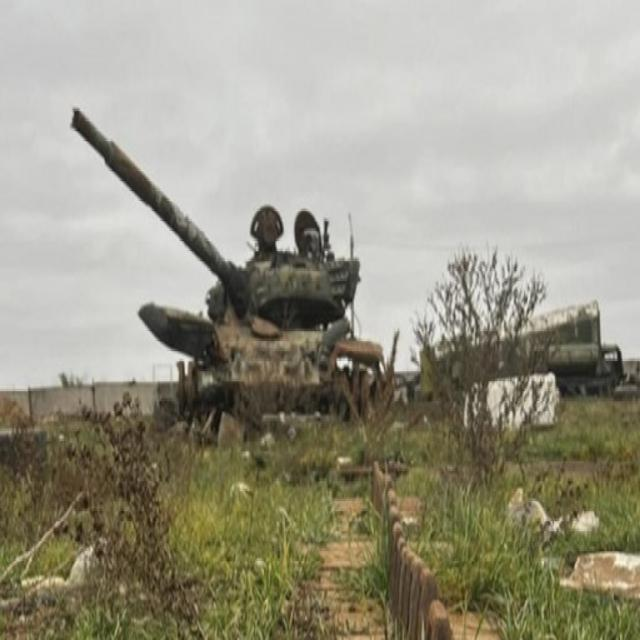TANK: (56, 84, 389, 436)
TRUCK: (544, 336, 626, 400)
